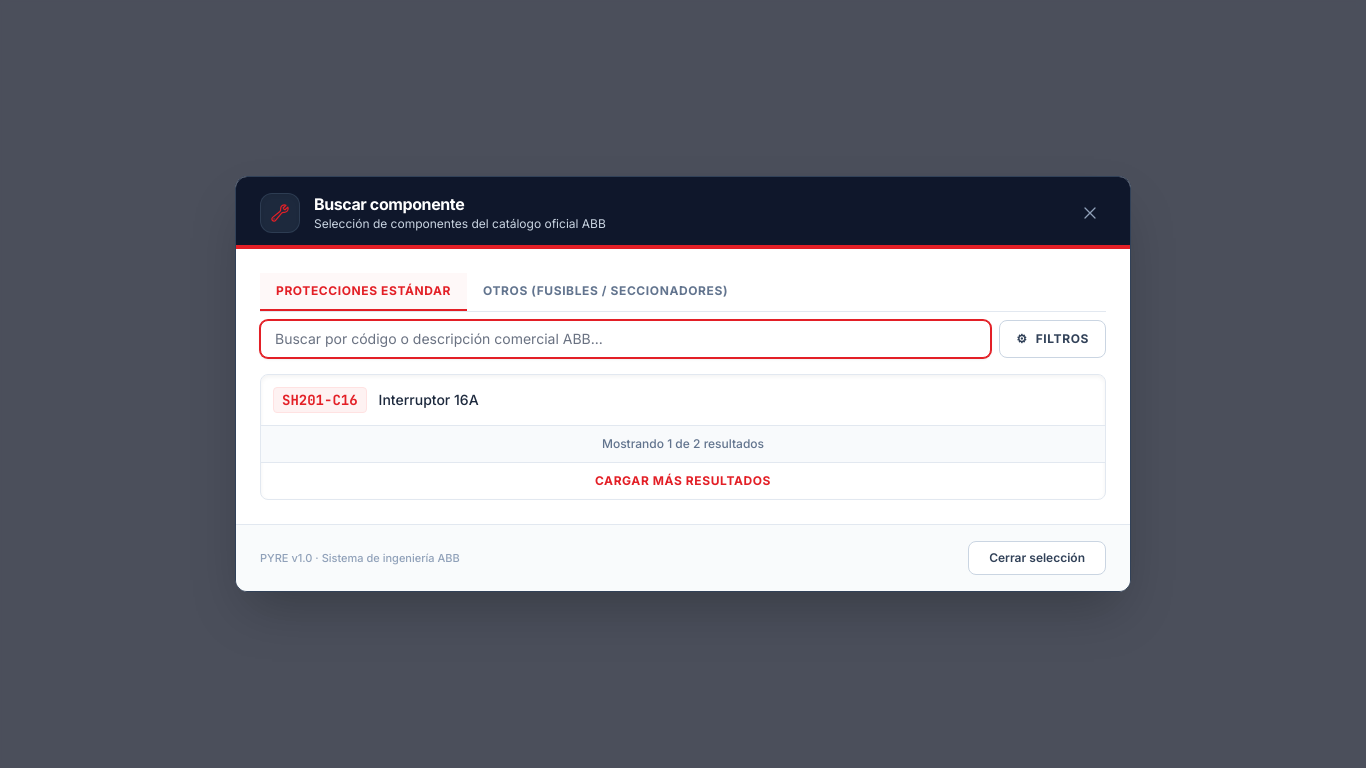
Test case: ComponentePicker › loads more results without replacing the ones already shown
The image size is (1366, 768).
Type "SH201" into the field named "buscar código" at {"x": 626, "y": 339}, box [260,320,991,358]
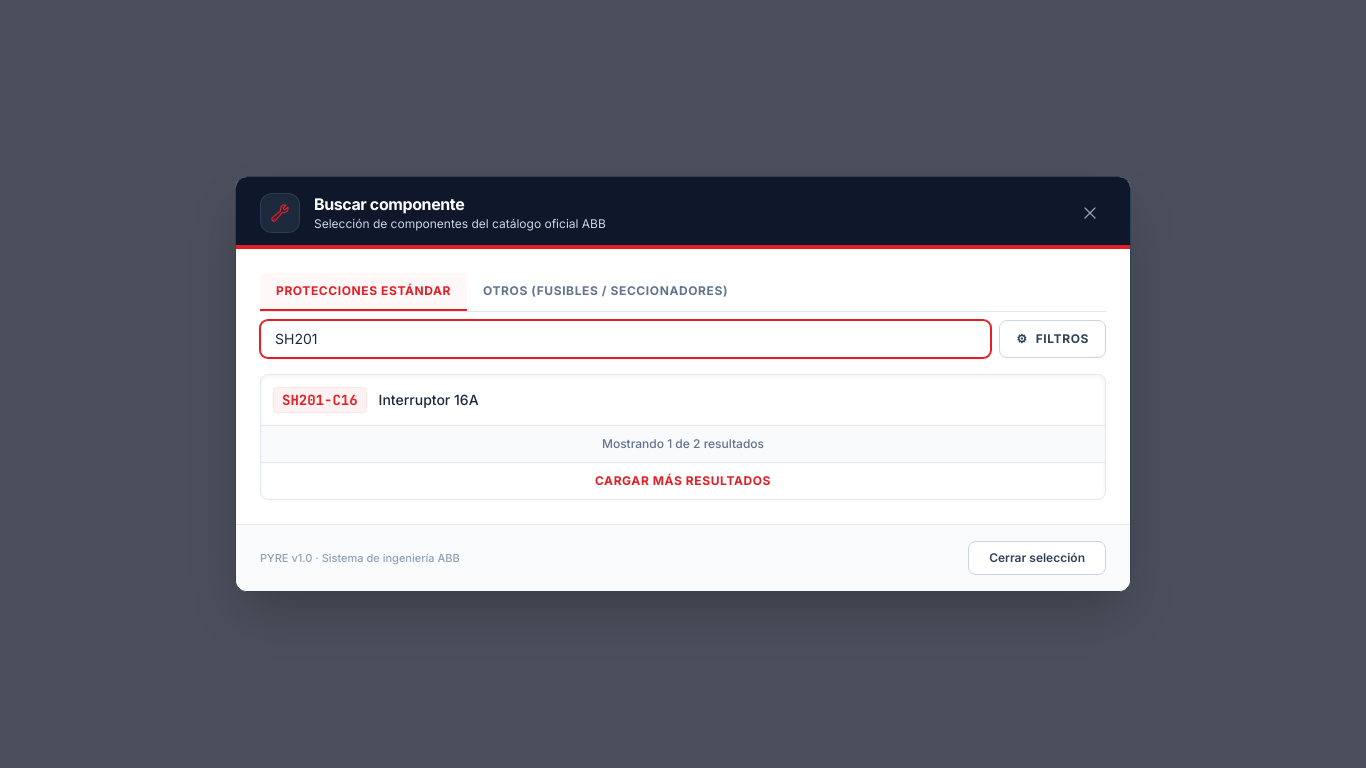
Check: the text "Mostrando 1 de 2 resultados" is shown, box [261,425,1105,462]
Click the button "Cargar más resultados" at {"x": 683, "y": 480}, box [261,462,1105,499]
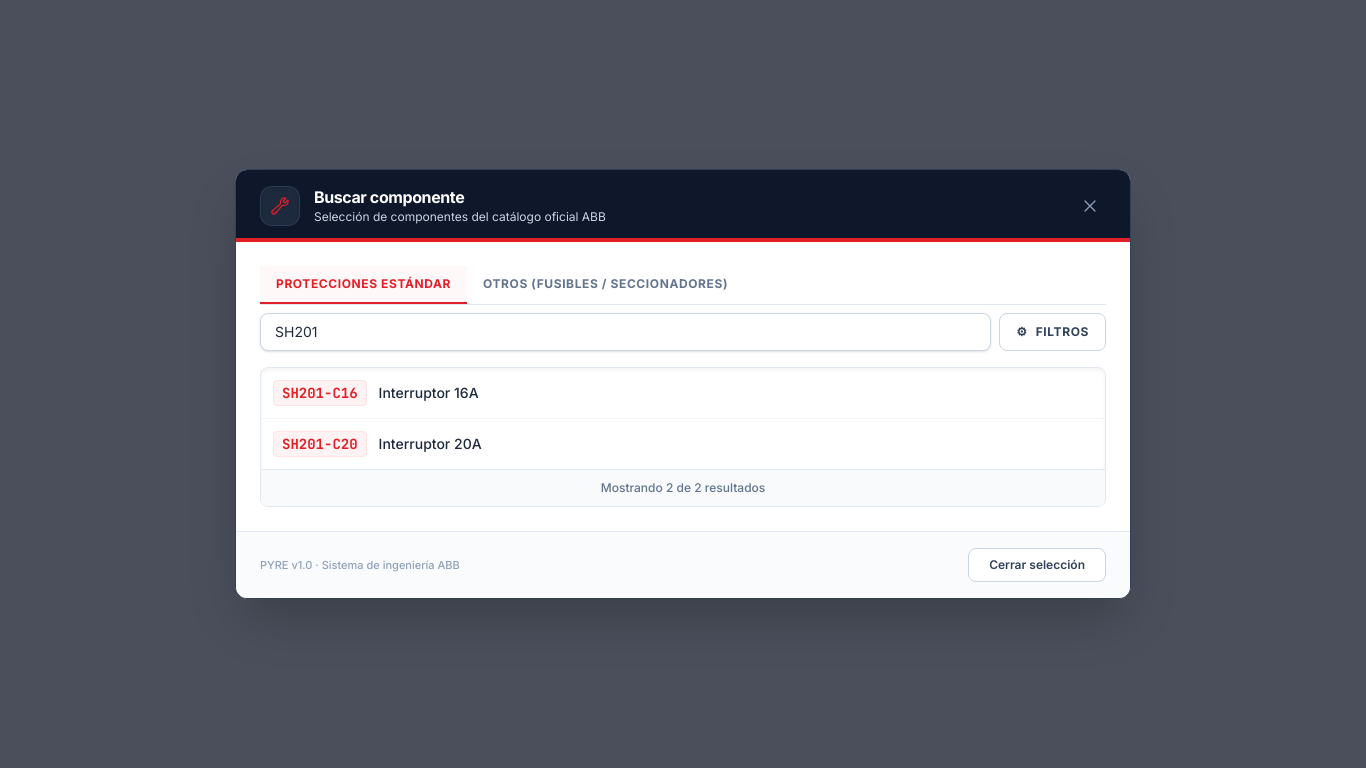
Check: the button "SH201-C16 Interruptor 16A" is shown, box [261,368,1105,418]
Check: the button "SH201-C20 Interruptor 20A" is shown, box [261,419,1105,469]
Check: the text "Mostrando 2 de 2 resultados" is shown, box [261,469,1105,506]
